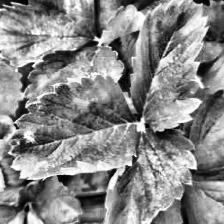Powdery Mildew Leaf: (7, 72, 140, 181)
